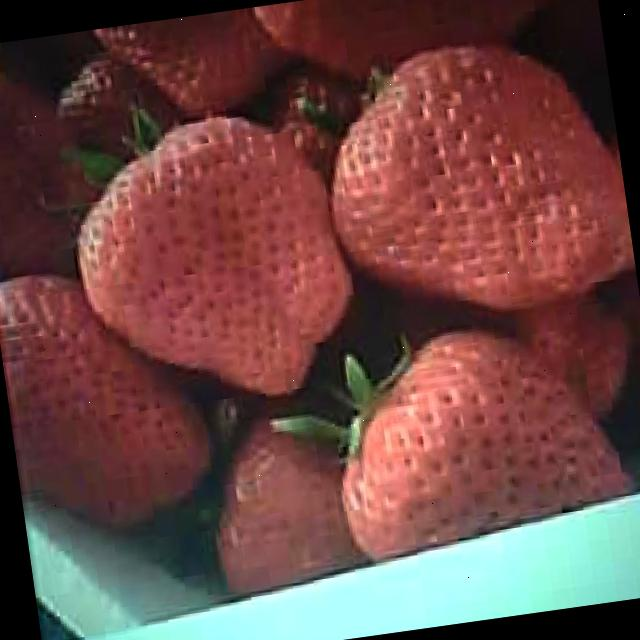strawberry: (314, 26, 638, 327), (64, 102, 356, 414), (322, 309, 637, 559)
